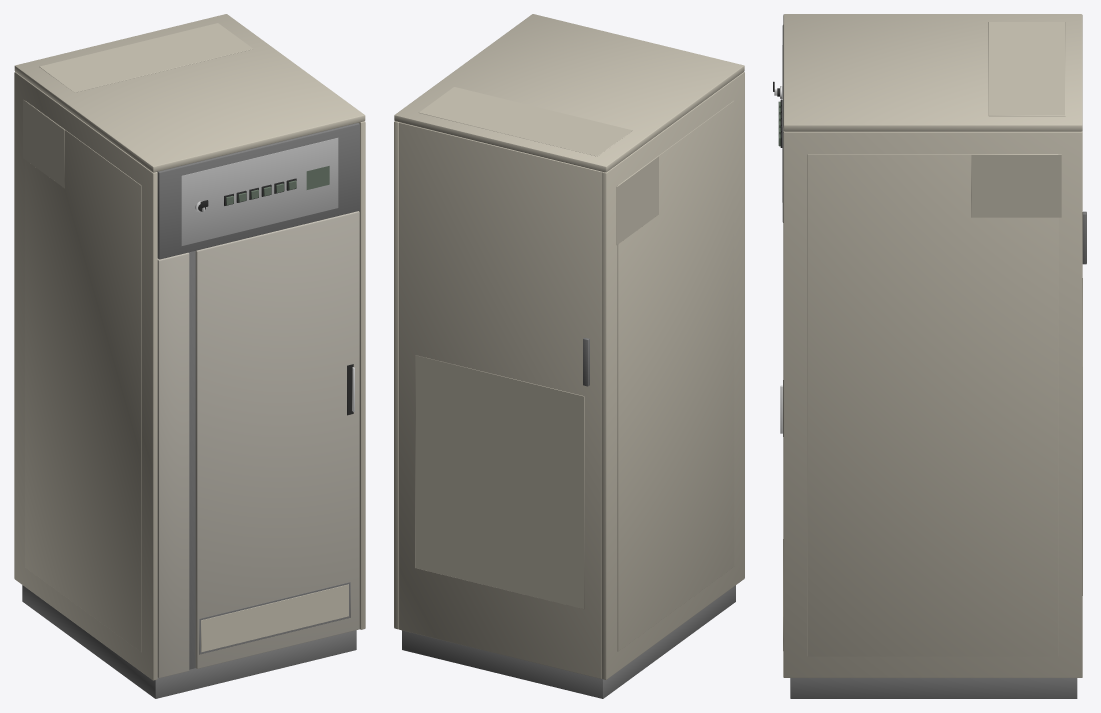
The model's file is Kit_SystemCabinet_CPU_Off.fbx.
3 renders of one model, left to right at view 1: azimuth 30°, elevation 25°; view 2: azimuth 150°, elevation 25°; view 3: azimuth 270°, elevation 25°, orthographic. The views are drawn at different scales.
Visible parts, largest first — view 1: Kit_SystemCabinet_CPU_LOD0; view 2: Kit_SystemCabinet_CPU_LOD0; view 3: Kit_SystemCabinet_CPU_LOD0.
Boxes of the visible parts, x1,y1,x2,y2 form: Kit_SystemCabinet_CPU_LOD0: (14,14,365,698); Kit_SystemCabinet_CPU_LOD0: (394,14,744,698); Kit_SystemCabinet_CPU_LOD0: (773,14,1086,698).
Size of what is drawn, in the model's own units: 0.7671 by 1.83 by 0.9016.
